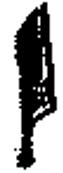Reed: (13, 2, 58, 172)
